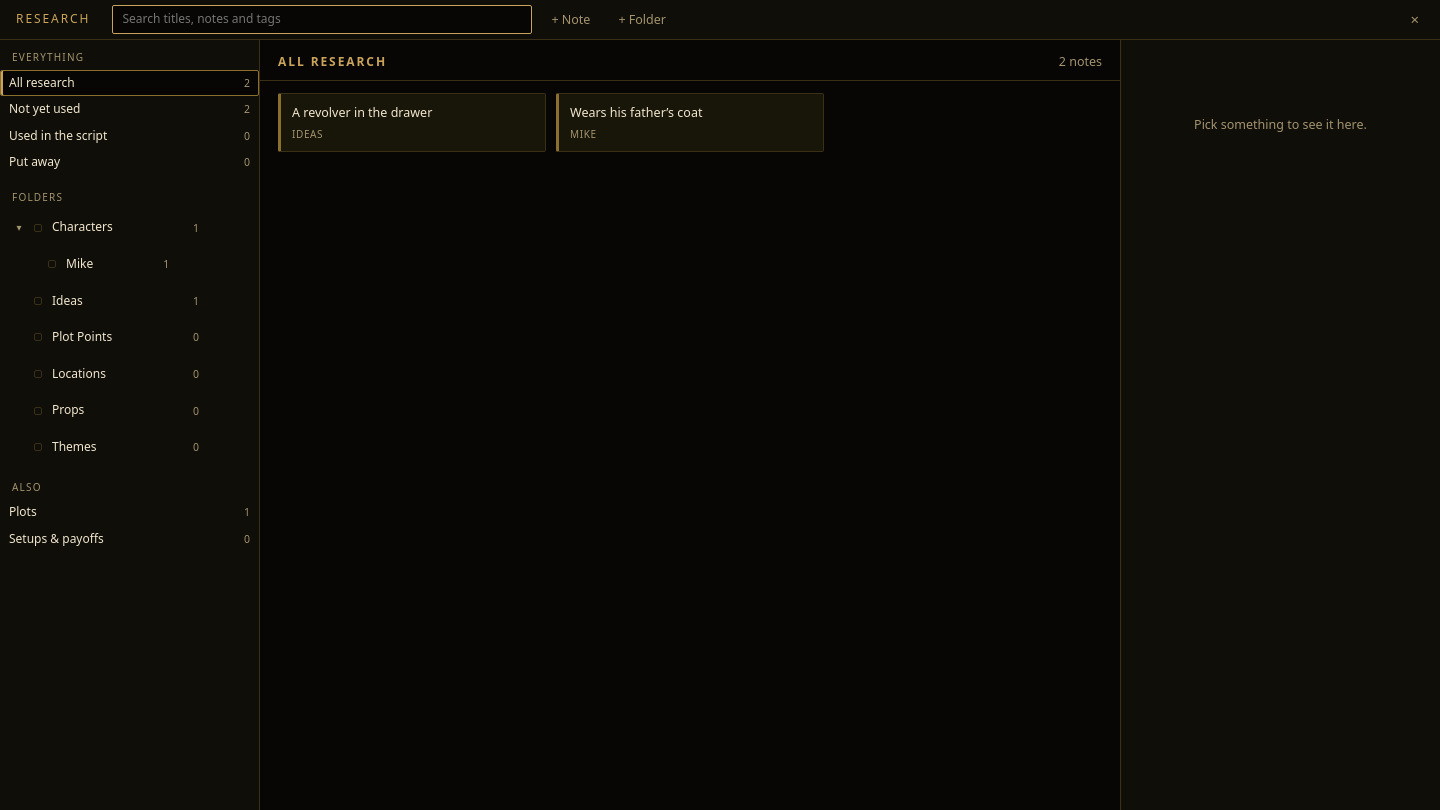
the research window › opens a folder on one click and renames it on two
Note: One click opens it: the middle column is now Mike's.
Click the button "Mike" at point(110, 264), box [61,255,158,274]
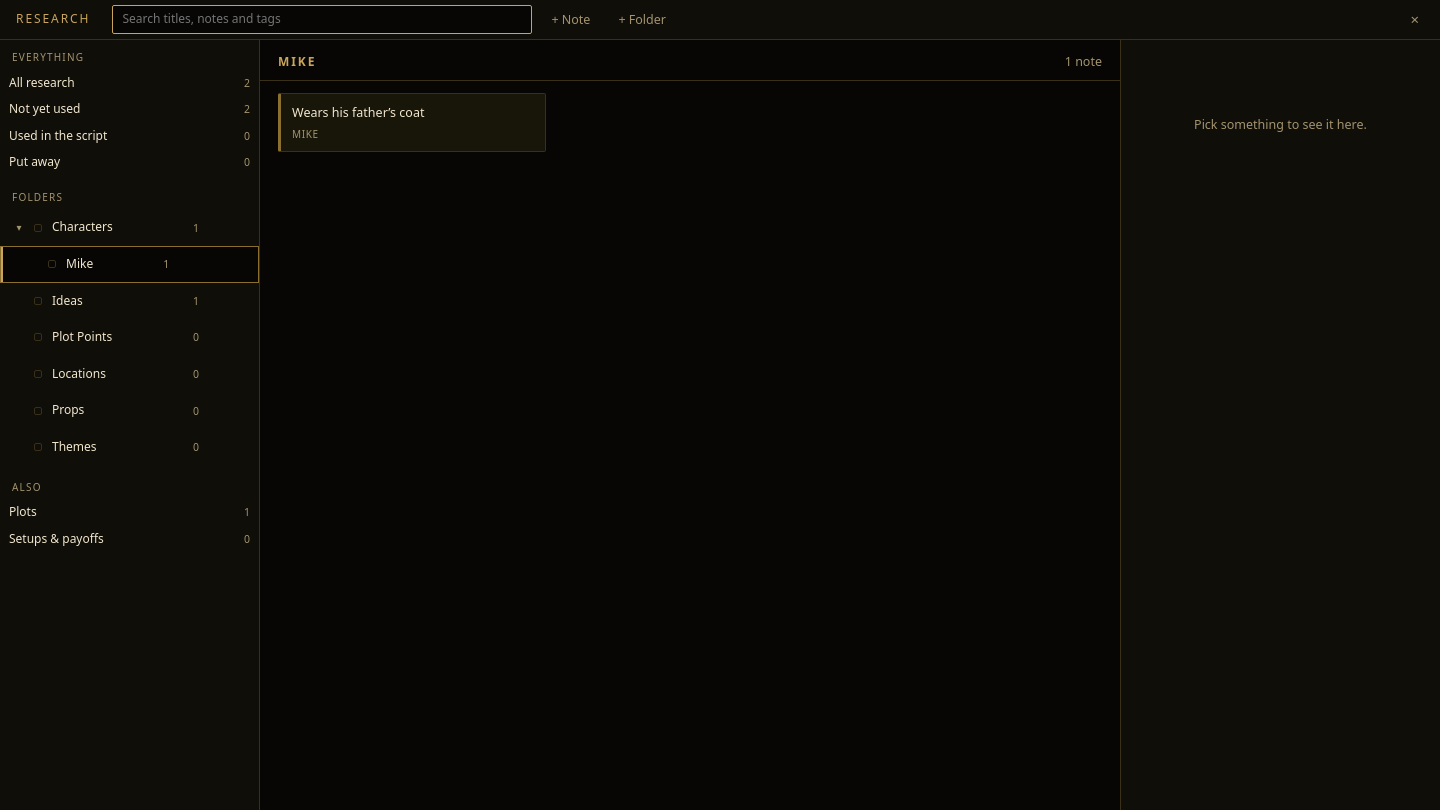
Expected: the list named "Notes" is shown, [278,93,546,152]
Expected: the text "Wears his father’s coat" is shown, [292,103,424,122]
Double-click the button "Mike" at point(110, 264), box [61,255,158,274]
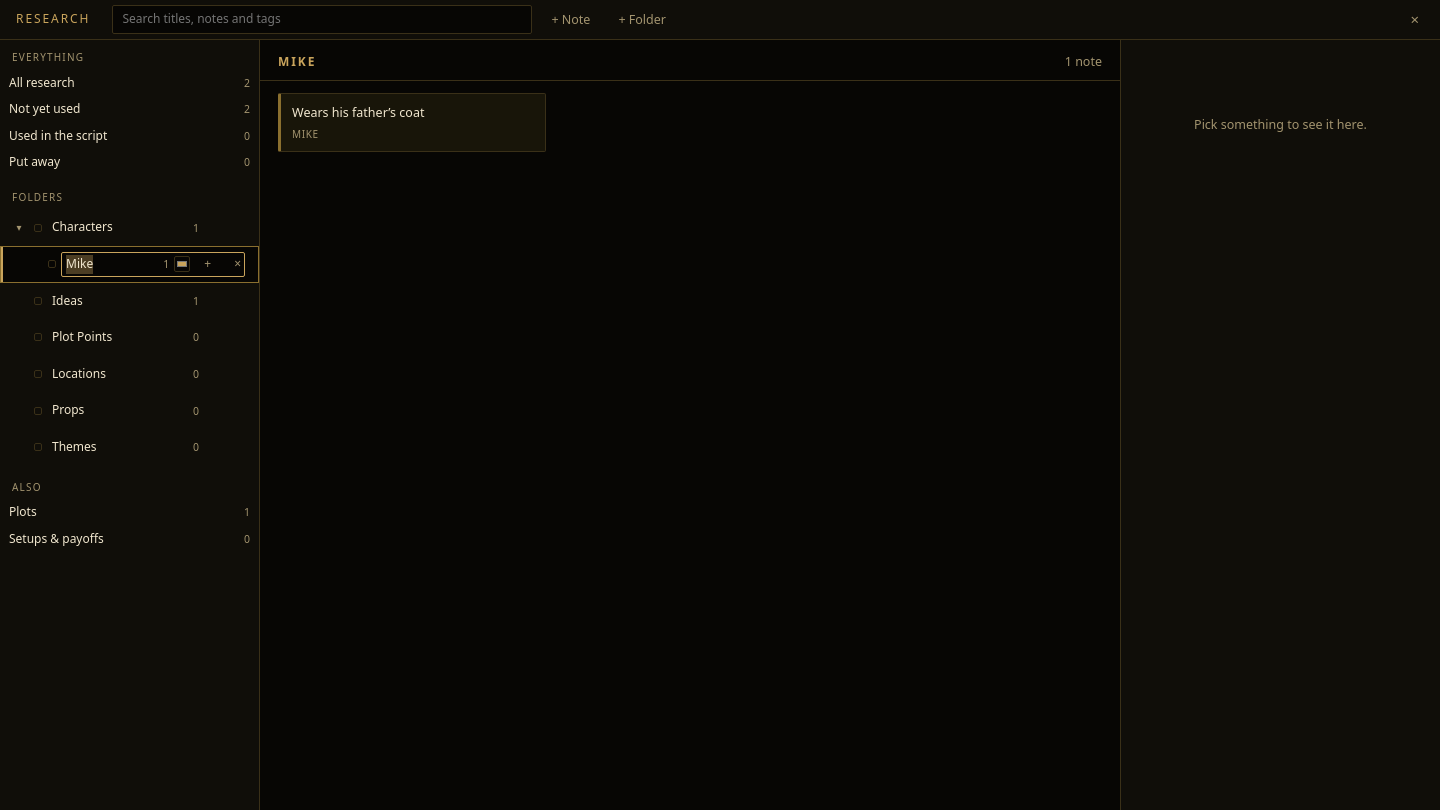
Replace the text in the field named "Folder name" with "Mike Hanlon" at point(153, 264), box [61,252,245,277]
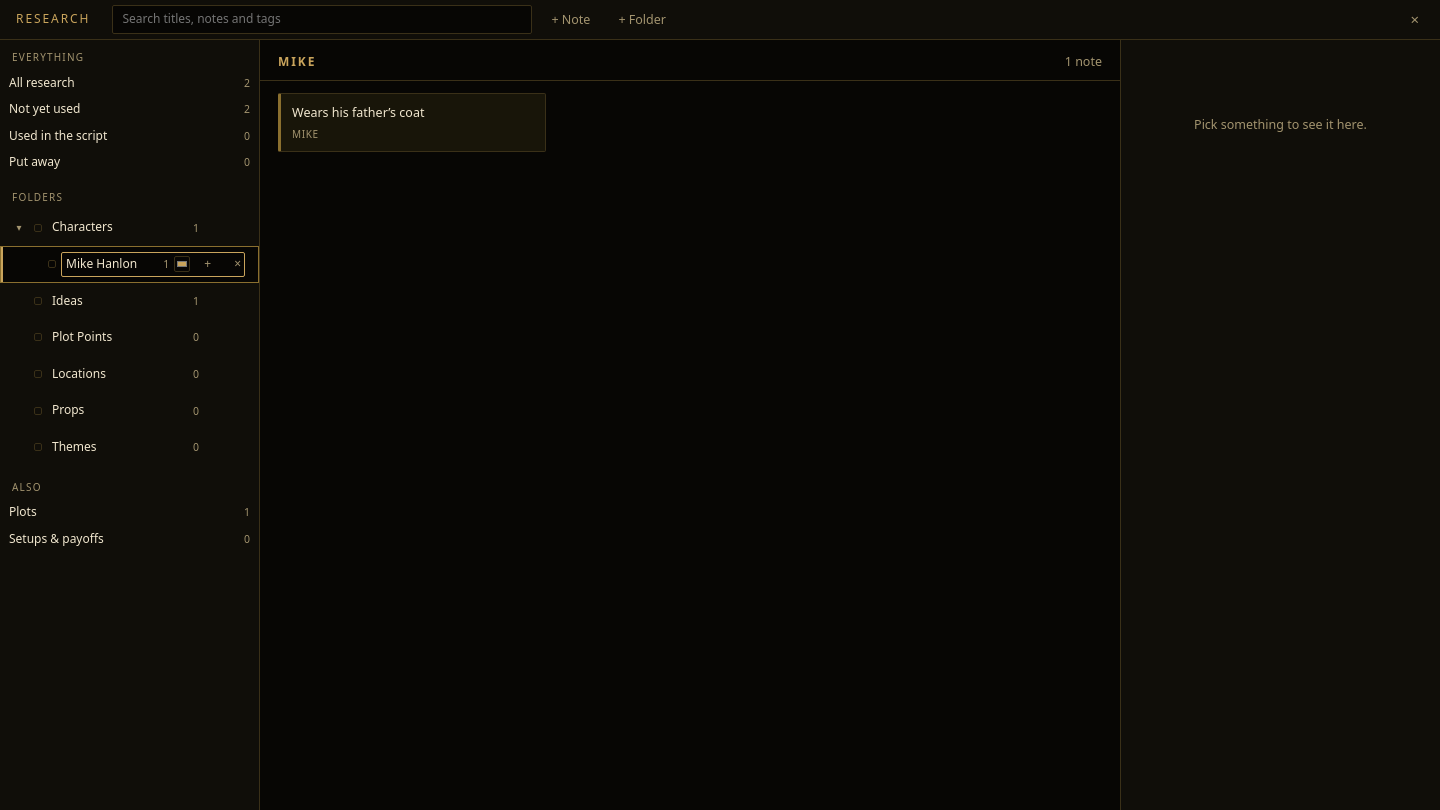
Press Enter in the field named "Folder name", box [61,252,245,277]
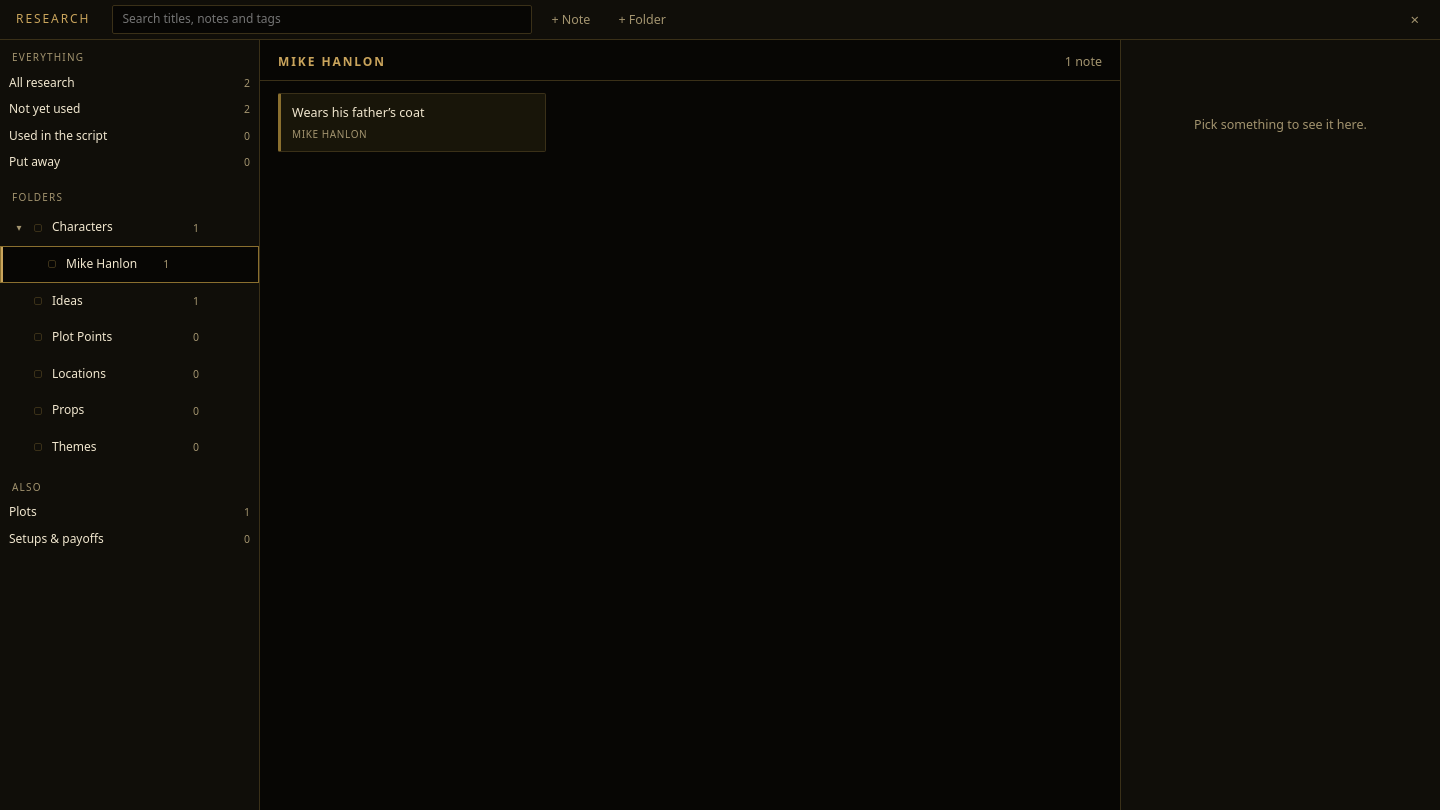
Expected: the 2nd text "Mike Hanlon" is shown, [61,252,142,275]
